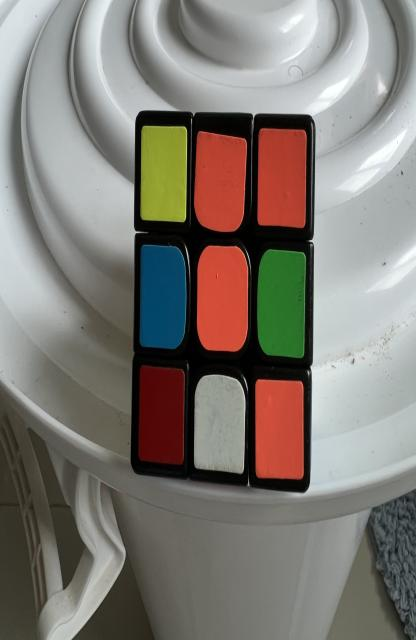Blue: (140, 245, 186, 350)
Green: (257, 248, 306, 358)
Orange: (197, 245, 249, 352), (194, 132, 247, 232), (255, 380, 304, 480), (258, 128, 306, 228)
Red: (138, 365, 184, 465)
White: (194, 375, 245, 475)
Yellow: (141, 125, 187, 222)
